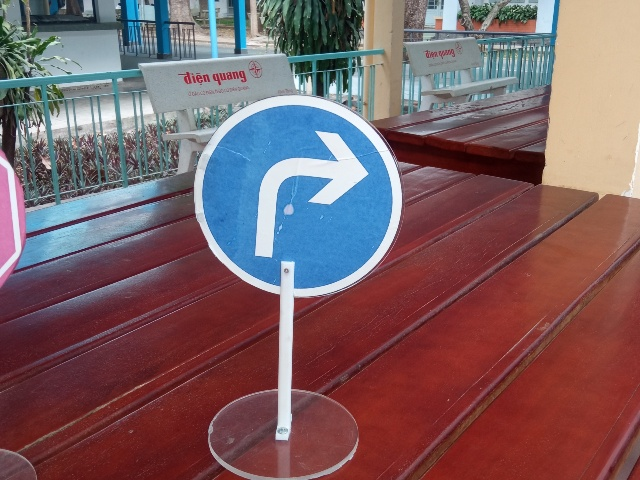Right_Sign: (193, 95, 402, 298)
Stop_Sign: (0, 141, 26, 300)
